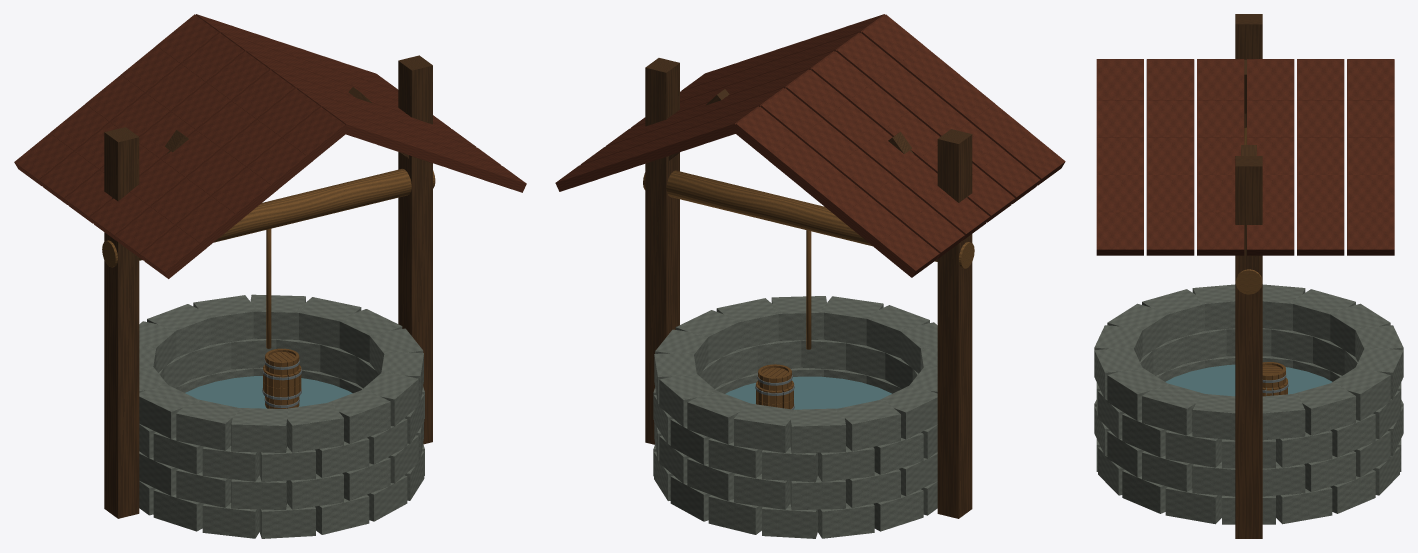
Rendered from well.glb.
The picture shows the model from 3 angles, left to right: view 1: azimuth 30°, elevation 25°; view 2: azimuth 150°, elevation 25°; view 3: azimuth 270°, elevation 25°; orthographic projection.
Parts seen in each view (by area): view 1: well; view 2: well; view 3: well.
Boxes of the visible parts, <box> form: well: <box>14,14,526,538</box>; well: <box>555,14,1065,538</box>; well: <box>1094,14,1403,538</box>.
Bounding box in the file's own units: 3.06 × 3.29 × 2.28.
6 materials, 4 textured.
